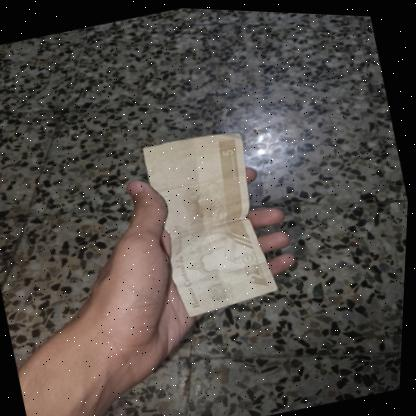five-back-vef: (136, 121, 288, 322)
